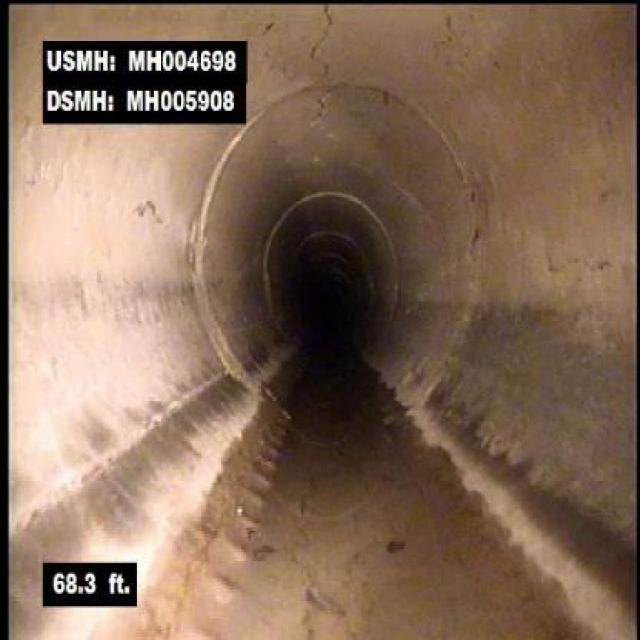Crack: (291, 501, 331, 634), (302, 7, 346, 84), (546, 245, 628, 280), (431, 8, 462, 57)
